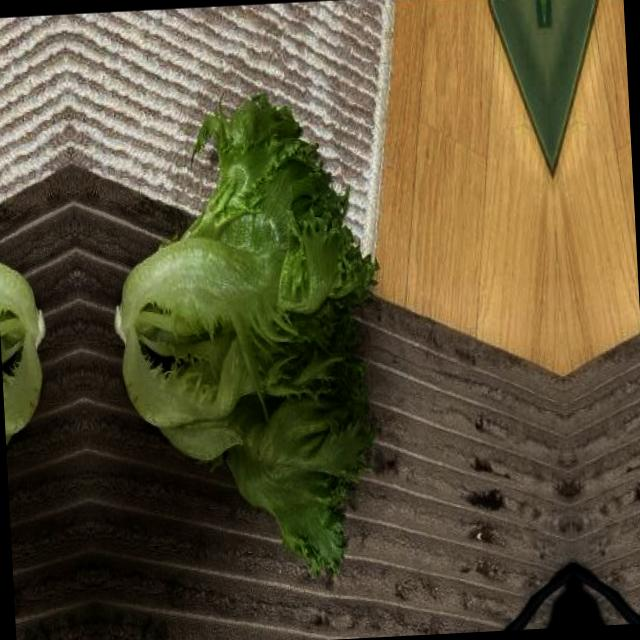healthy: (100, 77, 399, 594), (0, 94, 62, 599)
